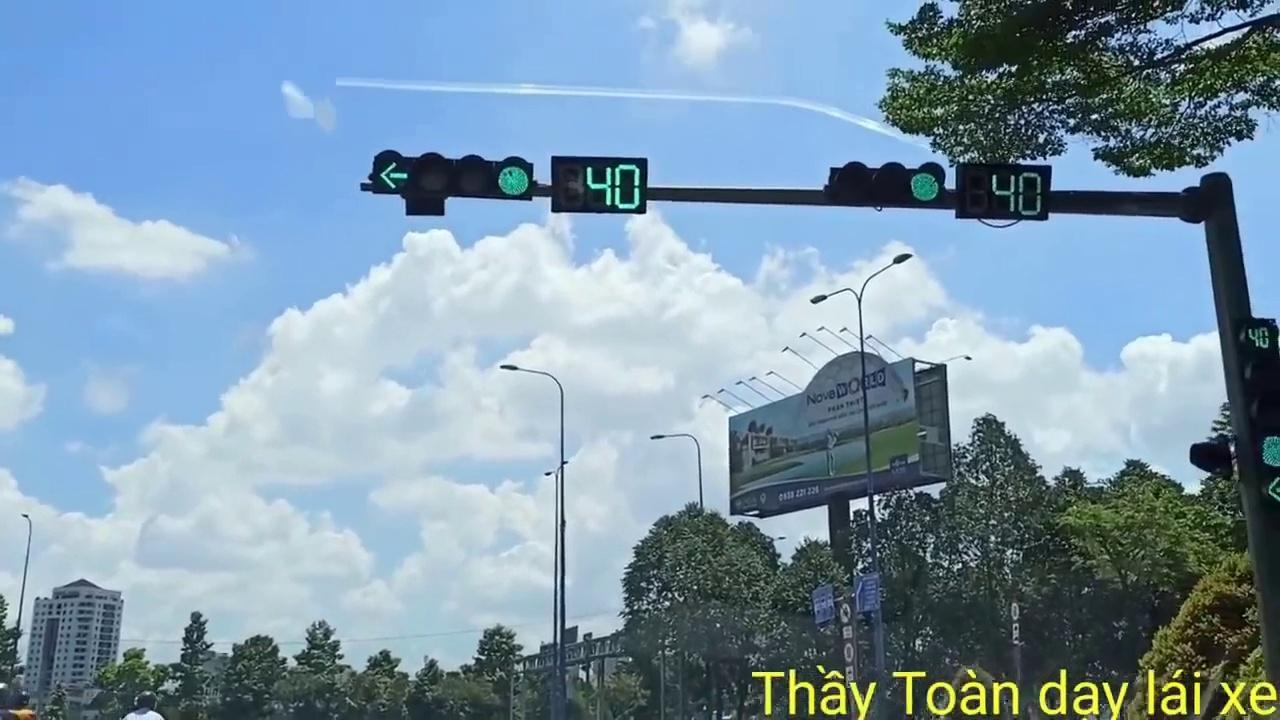Biển phụ: (1012, 624, 1021, 646), (840, 625, 854, 639)
Chỉ hướng đường: (851, 574, 883, 612)
Cấm xe máy: (838, 601, 854, 625)
Làn đường cho từng xe: (810, 584, 836, 622)
